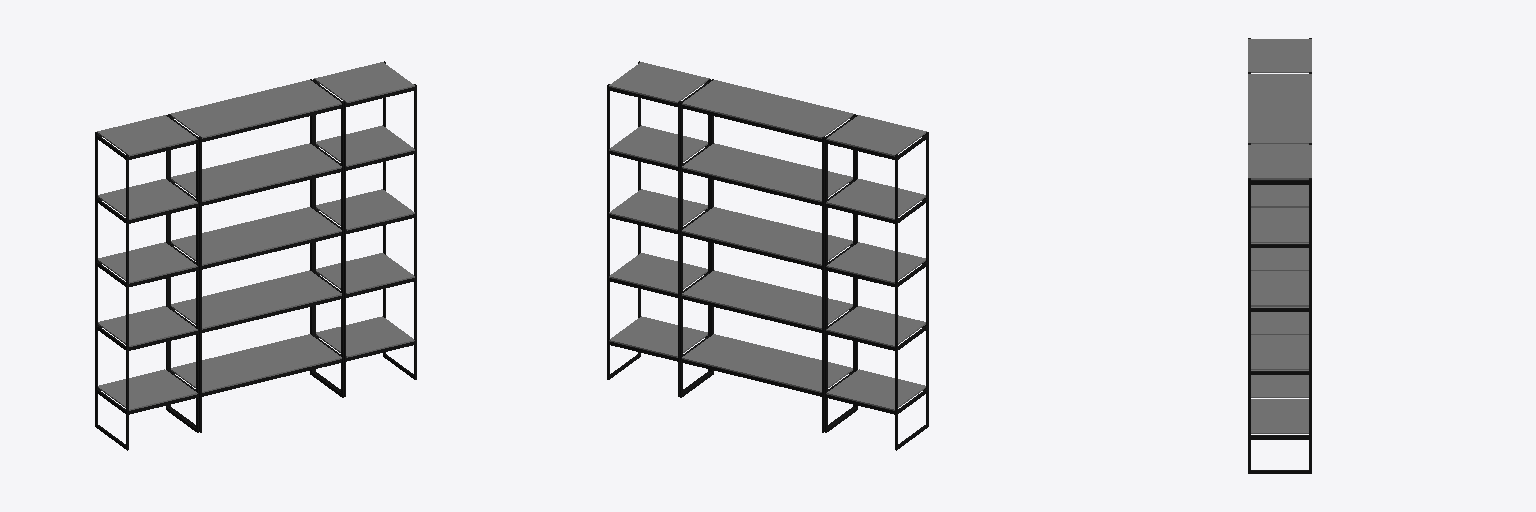
3 renders of one model, left to right at view 1: azimuth 30°, elevation 25°; view 2: azimuth 150°, elevation 25°; view 3: azimuth 270°, elevation 25°, orthographic.
Parts seen in each view (by area): view 1: GlasRomea05, GlasRomea02, GlasRomea04, GlasRomea03, GlasRomea01, GlasRomea15, GlasRomea10, GlasRomea13, GlasRomea12, GlasRomea11, GlasRomea14, GlasRomea07 (+10 smaller); view 2: GlasRomea05, GlasRomea02, GlasRomea04, GlasRomea03, GlasRomea01, GlasRomea15, GlasRomea10, GlasRomea13, GlasRomea12, GlasRomea11, GlasRomea14, GlasRomea07 (+10 smaller); view 3: GlasRomea05, GlasRomea10, GlasRomea15, GlasRomea07, GlasRomea08, GlasRomea06, GlasRomea09, GlasRomea02, GlasRomea03, GlasRomea01, GlasRomea04, Box28 (+1 smaller).
Boxes of the visible parts, x1,y1,x2,y2 form: GlasRomea05: [170, 80, 341, 138]; GlasRomea02: [171, 270, 341, 329]; GlasRomea04: [171, 143, 341, 201]; GlasRomea03: [171, 207, 341, 265]; GlasRomea01: [171, 334, 341, 392]; GlasRomea15: [97, 115, 197, 156]; GlasRomea10: [314, 62, 414, 102]; GlasRomea13: [98, 306, 197, 346]; GlasRomea12: [98, 242, 197, 283]; GlasRomea11: [98, 369, 197, 410]; GlasRomea14: [98, 179, 197, 219]; GlasRomea07: [316, 316, 414, 357]; GlasRomea05: [682, 80, 853, 138]; GlasRomea02: [682, 270, 852, 329]; GlasRomea04: [682, 143, 852, 201]; GlasRomea03: [682, 207, 852, 265]; GlasRomea01: [682, 334, 852, 392]; GlasRomea15: [826, 115, 926, 156]; GlasRomea10: [609, 62, 709, 102]; GlasRomea13: [826, 306, 925, 346]; GlasRomea12: [826, 242, 925, 283]; GlasRomea11: [826, 369, 925, 410]; GlasRomea14: [826, 179, 925, 219]; GlasRomea07: [609, 316, 707, 357]; GlasRomea05: [1248, 74, 1311, 143]; GlasRomea10: [1248, 145, 1311, 179]; GlasRomea15: [1248, 39, 1311, 72]; GlasRomea07: [1251, 399, 1308, 433]; GlasRomea08: [1251, 272, 1308, 306]; GlasRomea06: [1251, 336, 1308, 369]; GlasRomea09: [1251, 209, 1308, 242]; GlasRomea02: [1251, 271, 1308, 334]; GlasRomea03: [1251, 208, 1308, 270]; GlasRomea01: [1251, 335, 1308, 397]; GlasRomea04: [1251, 144, 1308, 207]; Box28: [1248, 178, 1250, 473].
Bounding box in the file's own units: 1808 × 1760 × 350.